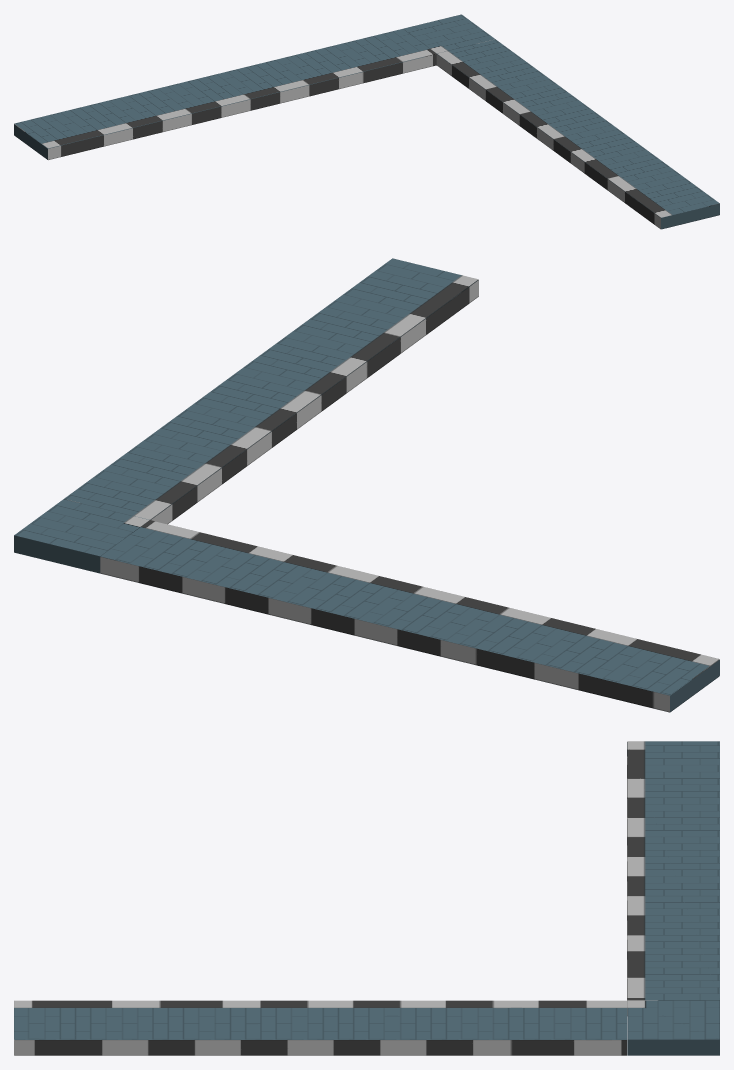
File: footpath turn.fbx
3 renders of one model, top to bottom at view 1: azimuth 30°, elevation 25°; view 2: azimuth 150°, elevation 25°; view 3: azimuth 270°, elevation 25°, orthographic. The views are drawn at different scales.
Parts seen in each view (by area): view 1: mesh_1, mesh_2, mesh; view 2: mesh_1, mesh_2, mesh; view 3: mesh_2, mesh_1, mesh.
Boxes of the visible parts, box(x1,y1,x2,y2) form: mesh_1: box(14, 29, 436, 160); mesh_2: box(426, 39, 719, 229); mesh: box(403, 14, 495, 62); mesh_1: box(100, 520, 719, 712); mesh_2: box(64, 258, 478, 524); mesh: box(14, 499, 149, 573); mesh_2: box(14, 1000, 627, 1055); mesh_1: box(627, 741, 719, 1000); mesh: box(627, 1000, 719, 1055).
Bounding box in the file's own units: 1001 × 25 × 1000.
1 material, 1 textured.
